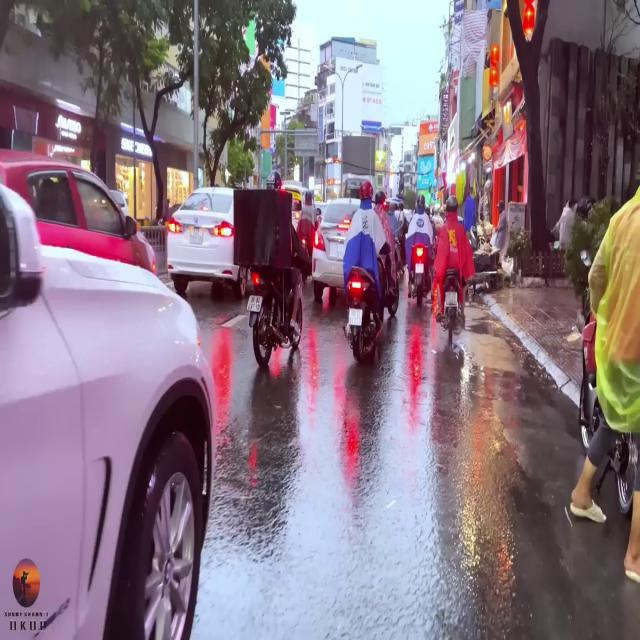bien_trang: (245, 292, 264, 314), (348, 305, 362, 331)
